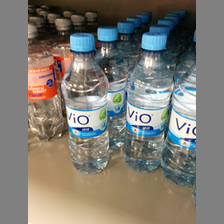water: (121, 30, 175, 174), (62, 31, 111, 175), (160, 57, 196, 185), (28, 23, 62, 142)
